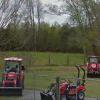Tractor: (4, 44, 30, 100)
